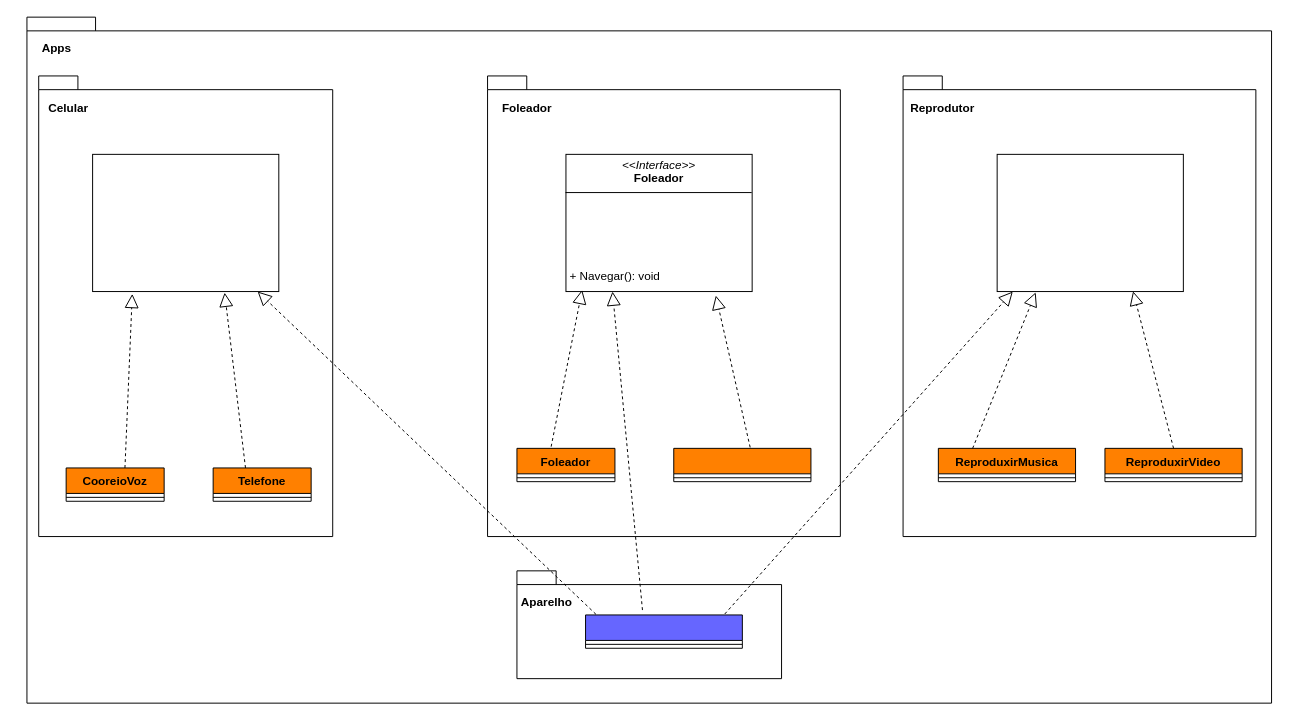
Image size: 1289x720. Some labels were removed from this diagram. Here are the shapes that lost their labels. From the top down, the centre of each, then its label:
At point 185,222: "<<Interface>> Celular + Celular() : void".
At point 1089,222: "<<Interface>> Reprodutor + Reproduzir() : void".
At point 742,464: "CorreioEletronico".
At point 663,631: "AparelhoSmartphone".
